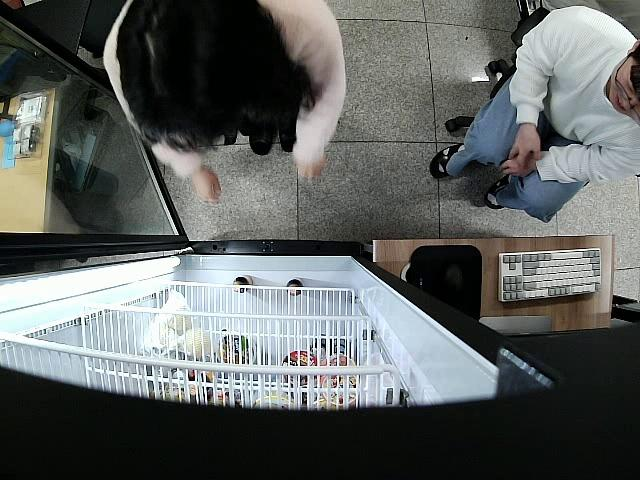00_hand: (189, 169, 222, 203)
